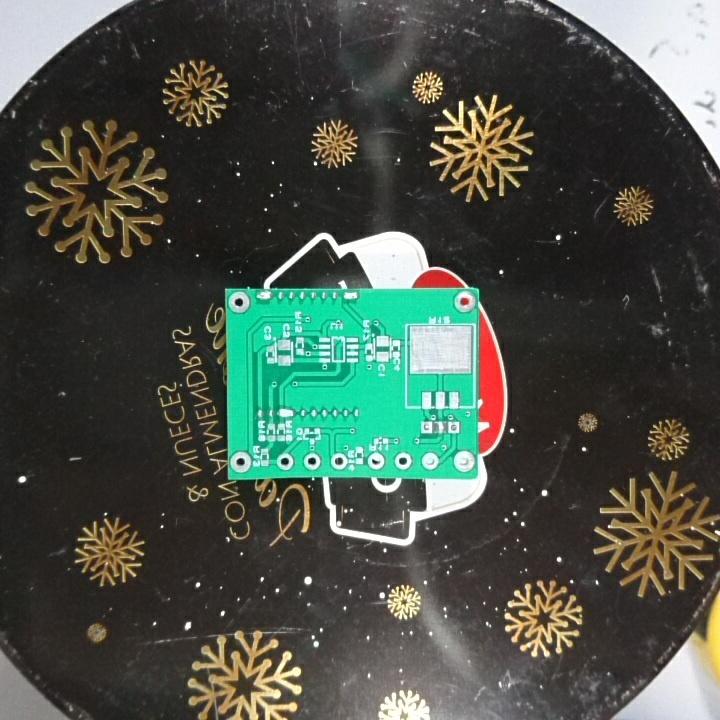F: (452, 288, 478, 316), (450, 448, 477, 474), (229, 449, 255, 474), (227, 290, 251, 316), (393, 449, 415, 472), (364, 450, 387, 472), (417, 451, 440, 472), (302, 450, 323, 472), (329, 451, 347, 474), (275, 452, 294, 472), (445, 419, 462, 437), (419, 418, 434, 436)
P: (341, 288, 361, 305), (276, 405, 293, 425), (253, 290, 275, 304)
